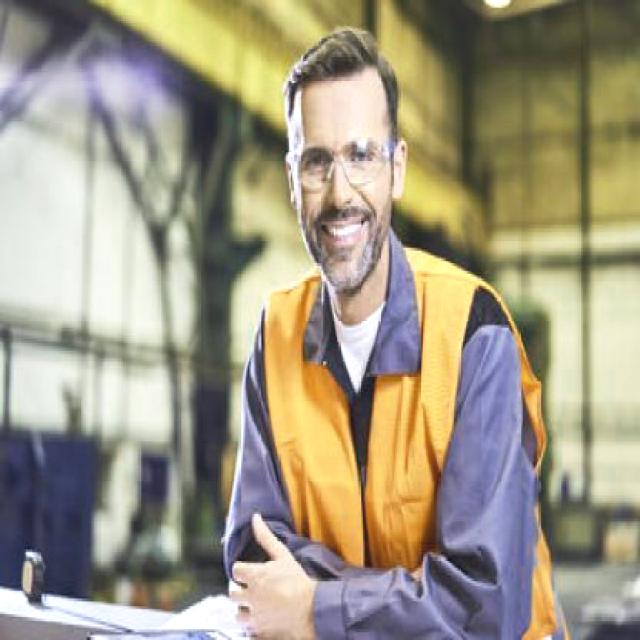face_nomask: (297, 136, 389, 252)
glasses: (278, 128, 400, 188)
hand_noglove: (219, 511, 327, 640)
head_nohelmet: (284, 24, 402, 113)
person: (213, 38, 575, 640)
vest: (252, 243, 568, 640)
